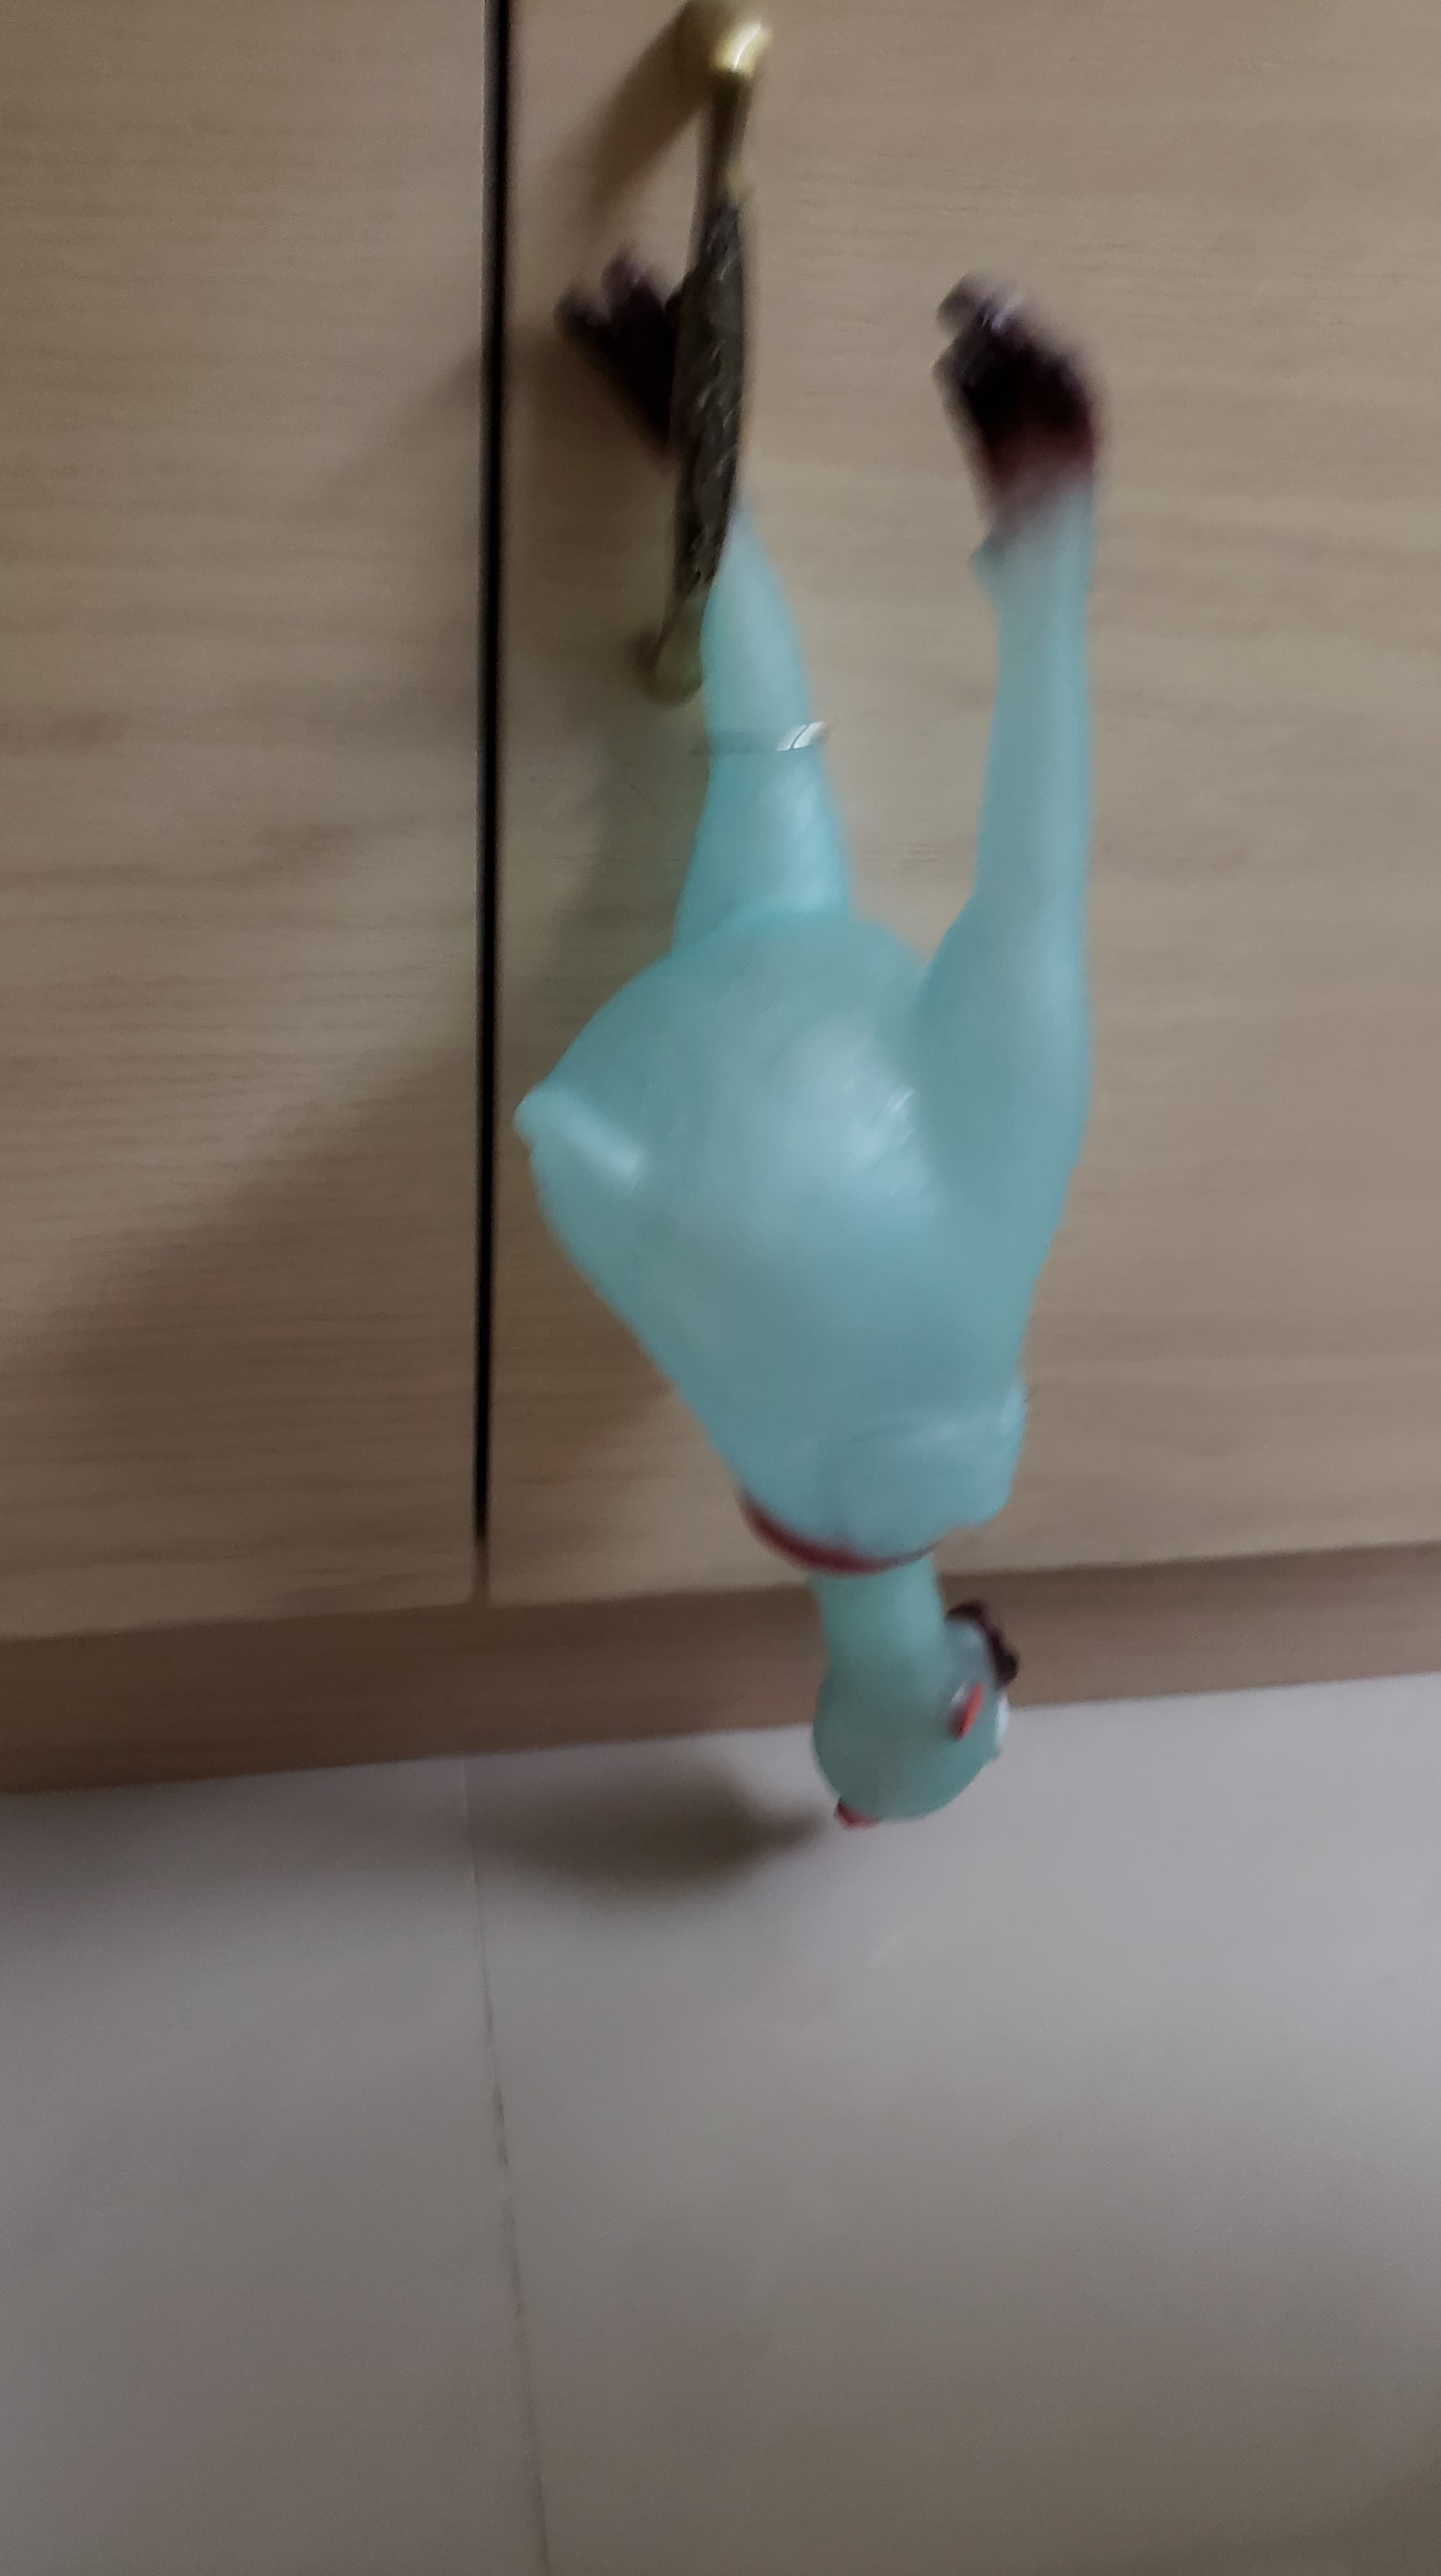Screaming chicken: (495, 223, 1087, 1838)
